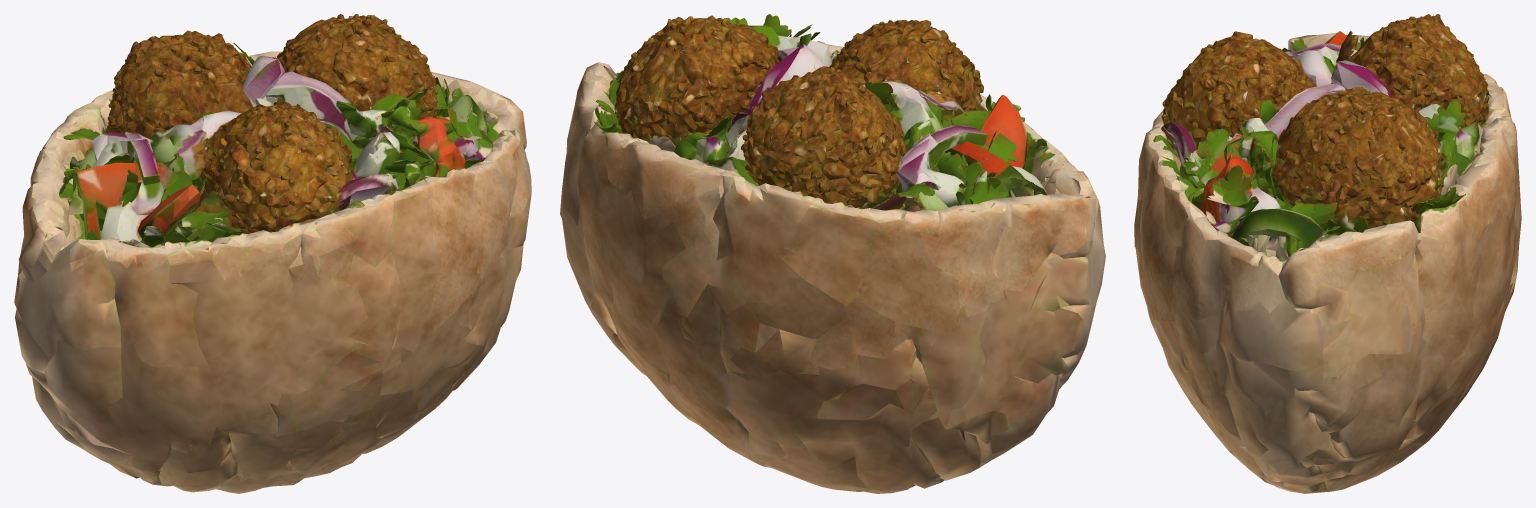
The model's file is pita.glb.
3 renders of one model, left to right at view 1: azimuth 30°, elevation 25°; view 2: azimuth 150°, elevation 25°; view 3: azimuth 270°, elevation 25°, orthographic. The views are drawn at different scales.
Visible parts, largest first — view 1: Mesh_0; view 2: Mesh_0; view 3: Mesh_0.
Part boxes in pixels (x1,y1,x2,y2): Mesh_0: (14, 14, 531, 493); Mesh_0: (560, 14, 1105, 493); Mesh_0: (1134, 14, 1521, 493).
Bounding box in the file's own units: 1.9 × 1.54 × 1.26.
Materials: 1 (1 with a texture image).
